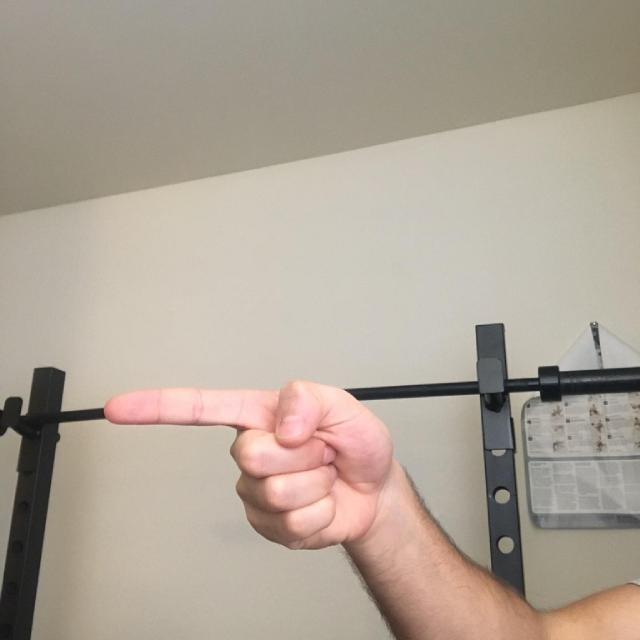G: (60, 332, 466, 590)
